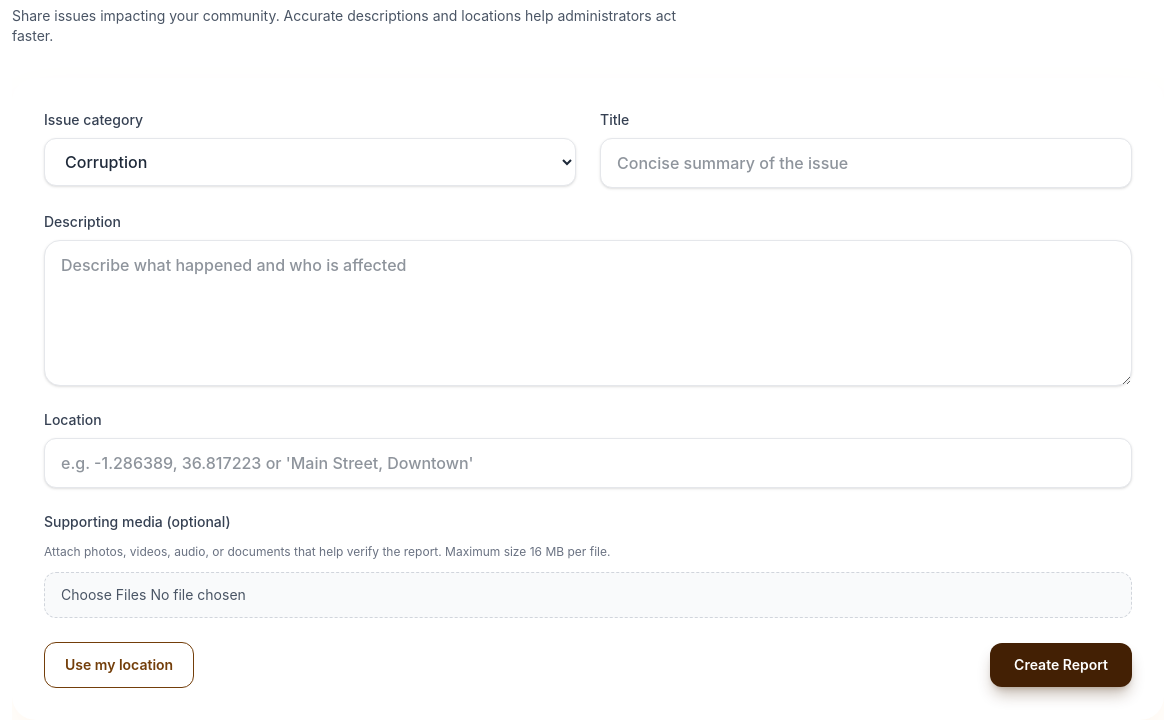
Test: validates required fields
(page scrolled)
Click the button "Create Report" at [1061, 665], box [990, 643, 1132, 687]
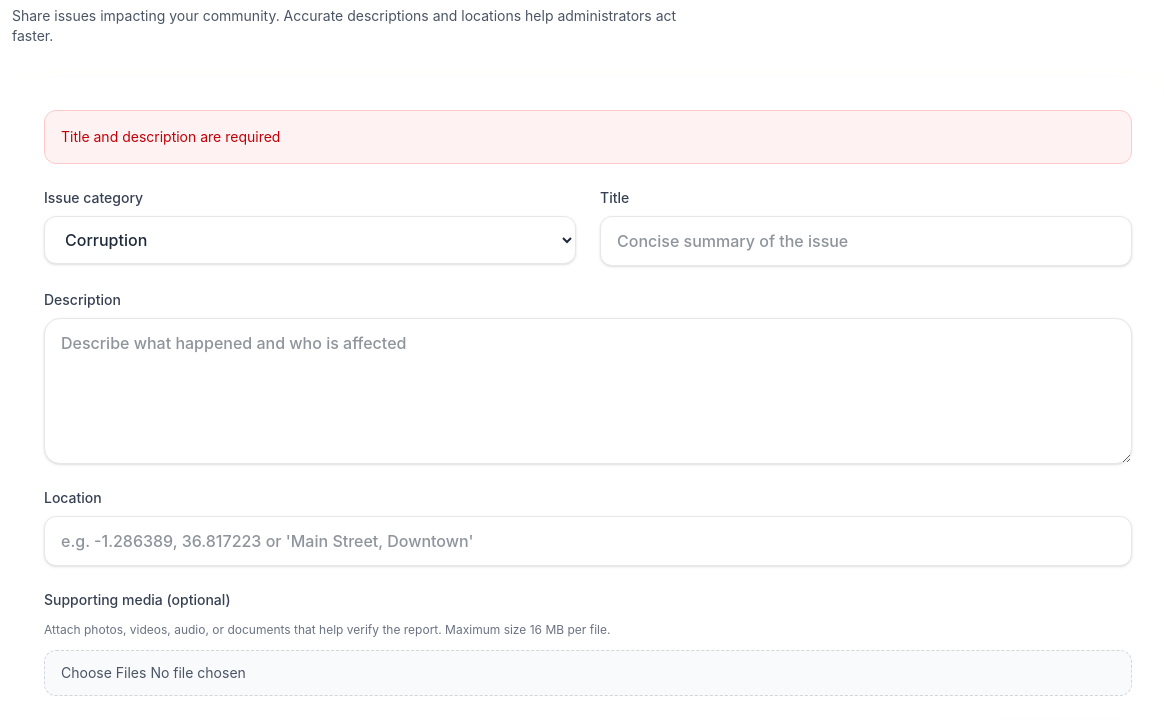
expect the message reads "Title and description are required": met, box [61, 128, 280, 145]
